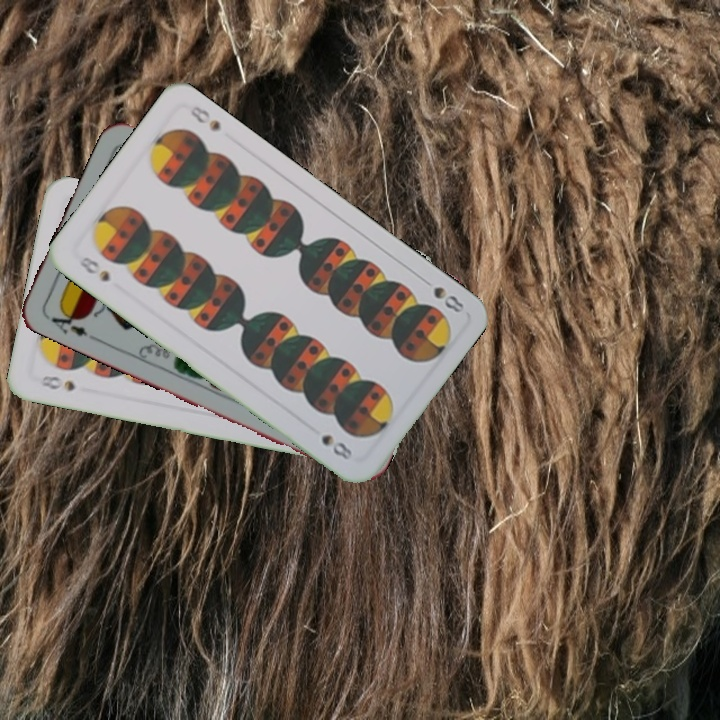EA: (47, 305, 90, 339)
S8: (416, 273, 467, 316), (75, 252, 113, 285), (36, 371, 78, 394)
